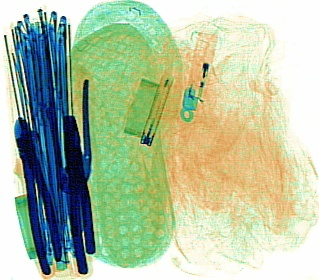lighter: (180, 27, 220, 112)
